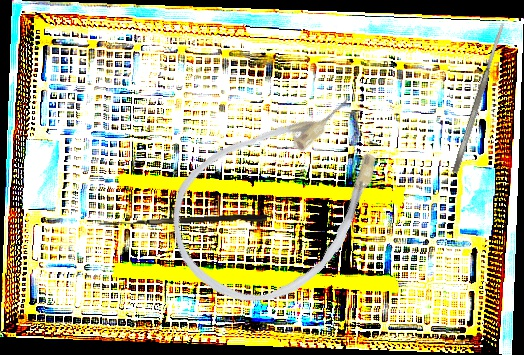Cannula: (143, 65, 422, 335)
Hook Surgical: (98, 211, 268, 233)
Spatula Surgical: (450, 21, 508, 175)
